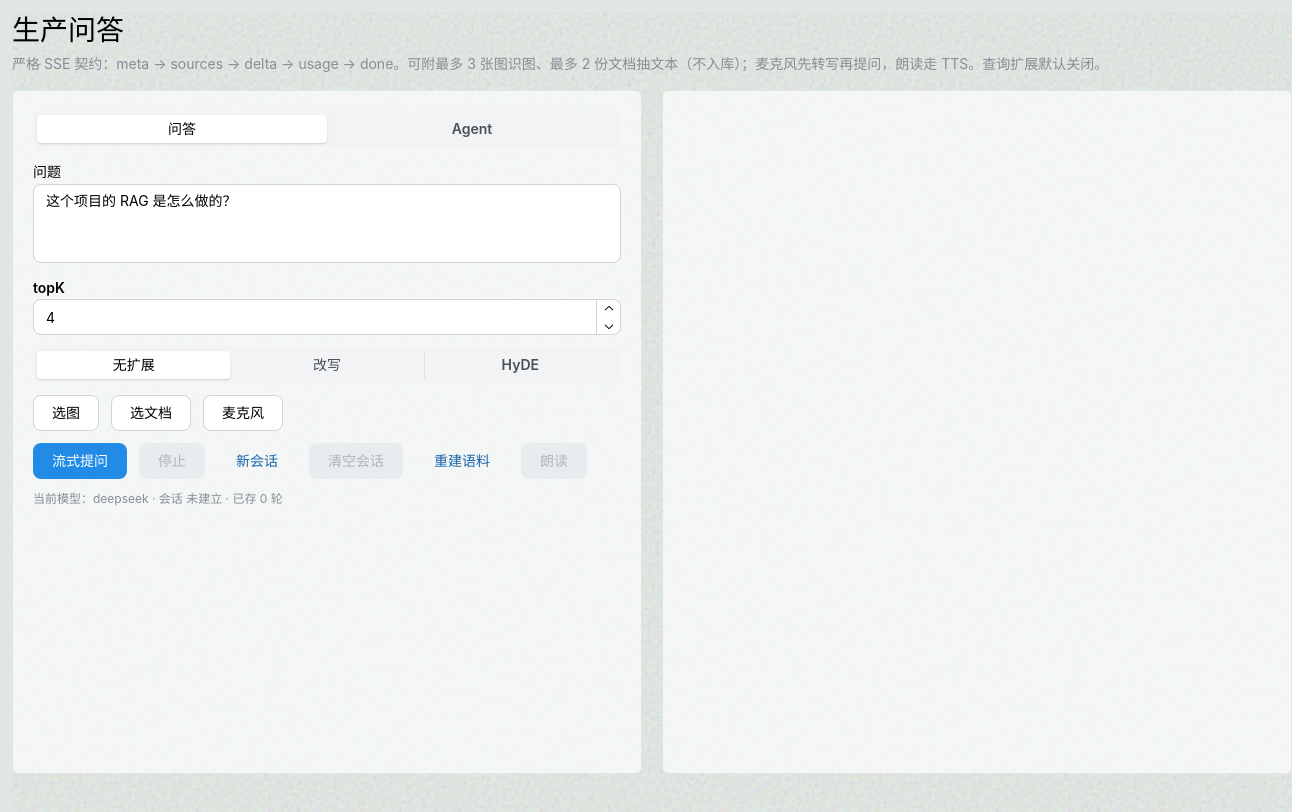
Test: ProductionChatPanel › 断流后优先展示事件日志中的业务错误
This screenshot has width=1292, height=812.
Click the button "流式提问" at (80, 461), box [33,443,127,479]
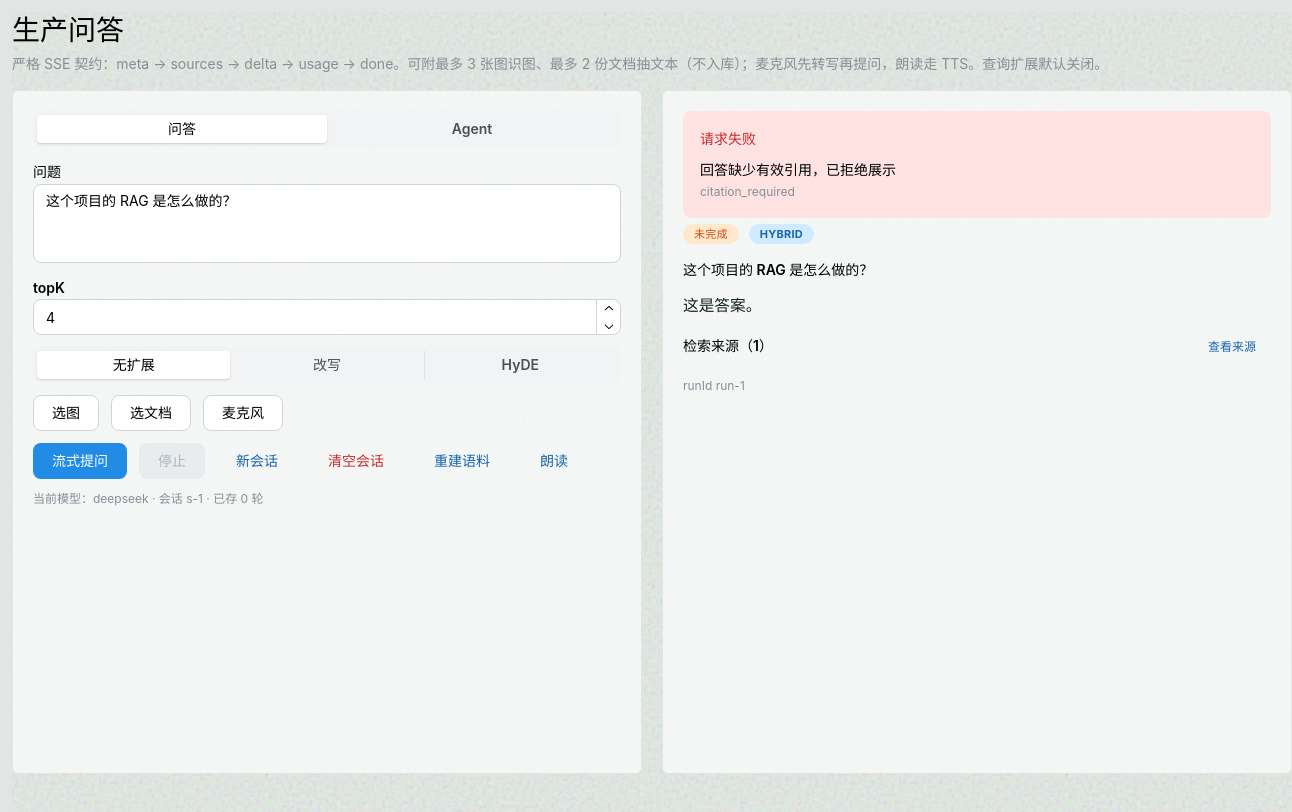
Check: the text "回答缺少有效引用，已拒绝展示" is shown, box [700,161,896,178]
Check: the text "citation_required" is shown, box [700,184,795,199]
